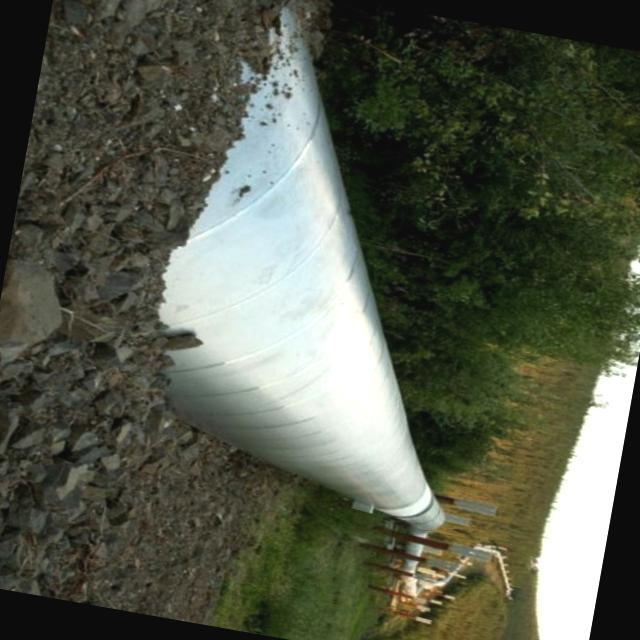gas: (160, 9, 441, 530)
